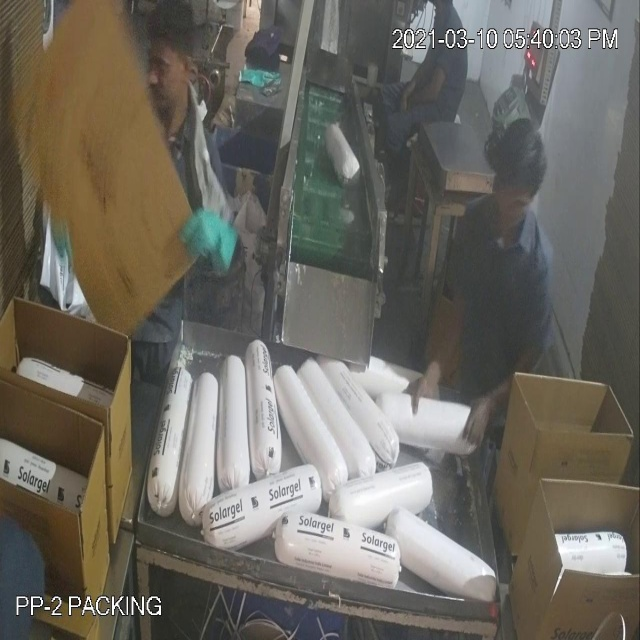Guantes: (181, 197, 245, 281)
Sin_guantes: (460, 335, 550, 450), (402, 268, 470, 420), (397, 58, 450, 119)
